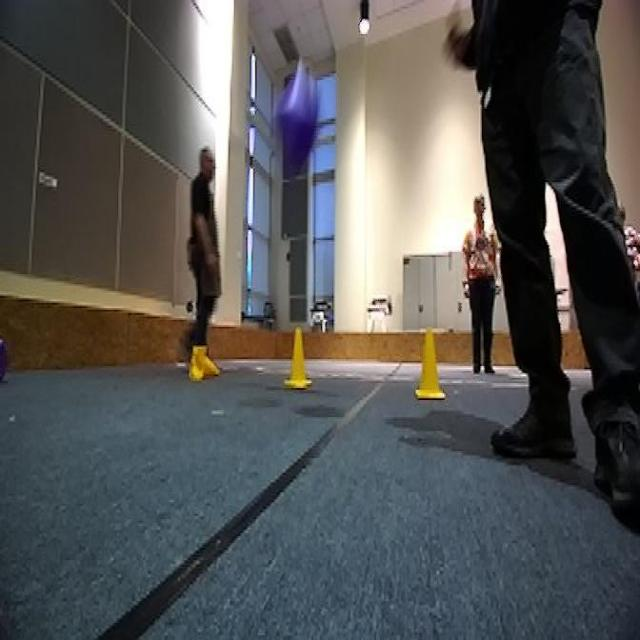frc_cone: (408, 328, 454, 398), (282, 328, 314, 386), (190, 351, 214, 381)
frc_cube: (268, 66, 324, 176), (0, 337, 10, 383)
